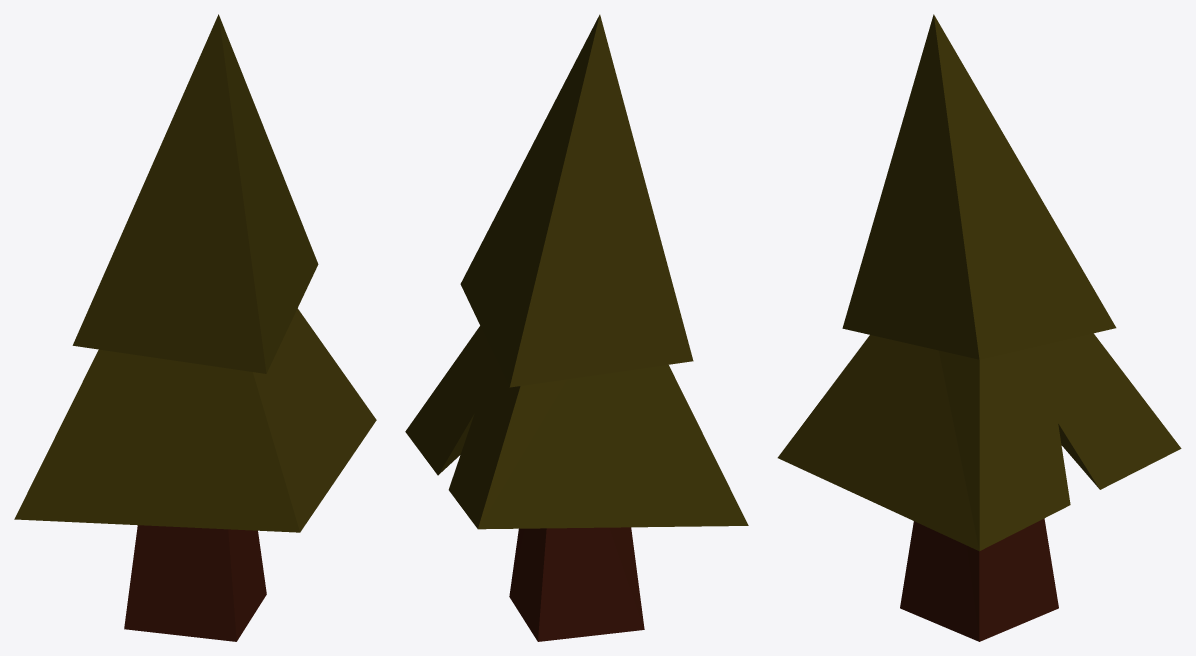
The model's file is PineTree1.fbx.glb.
3 renders of one model, left to right at view 1: azimuth 30°, elevation 25°; view 2: azimuth 150°, elevation 25°; view 3: azimuth 270°, elevation 25°, orthographic. The views are drawn at different scales.
Parts seen in each view (by area): view 1: PineTree1; view 2: PineTree1; view 3: PineTree1.
Boxes of the visible parts, x1=… form: PineTree1: x1=14, y1=14, x2=376, y2=641; PineTree1: x1=405, y1=14, x2=748, y2=641; PineTree1: x1=777, y1=14, x2=1181, y2=641.
Size of the model in its own units: 94.22 by 153 by 94.22.
